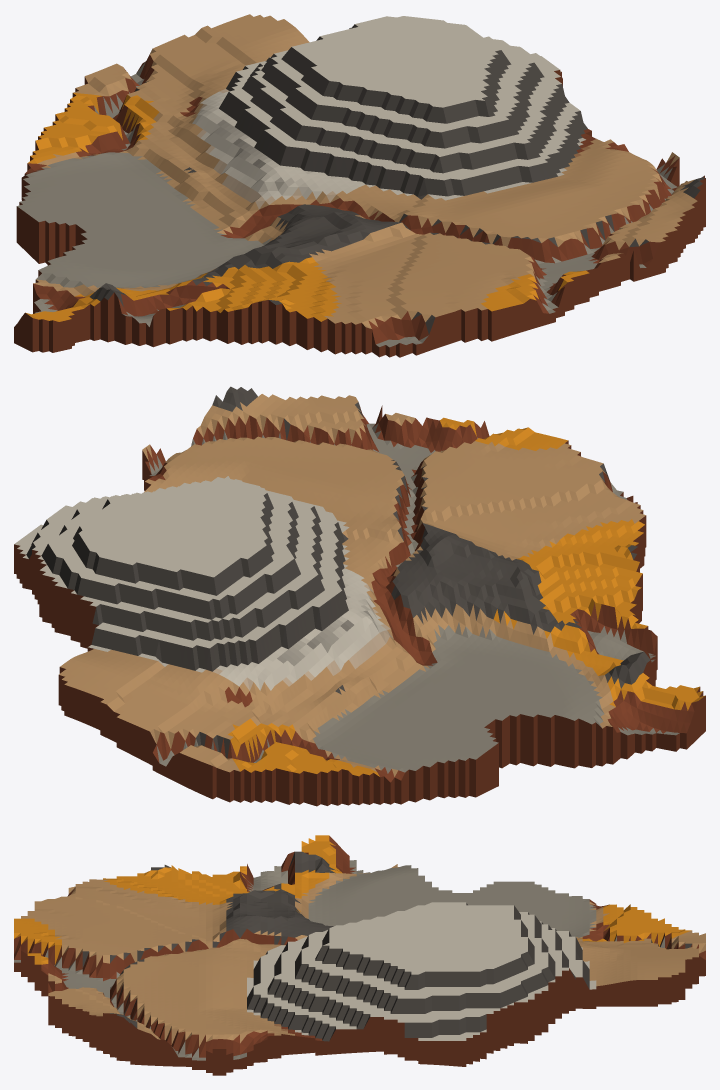
File: d-a-de-muertos-a1cedd.glb
The picture shows the model from 3 angles, top to bottom: view 1: azimuth 30°, elevation 25°; view 2: azimuth 150°, elevation 25°; view 3: azimuth 270°, elevation 25°; orthographic projection. The views are drawn at different scales.
Parts seen in each view (by area): view 1: town-ground; view 2: town-ground; view 3: town-ground.
Part boxes in pixels (box(x1,y1,x2,y2)): town-ground: box(14, 14, 705, 357); town-ground: box(14, 386, 705, 806); town-ground: box(14, 835, 705, 1075).
Size of the model in its own units: 92 by 22.37 by 101.
